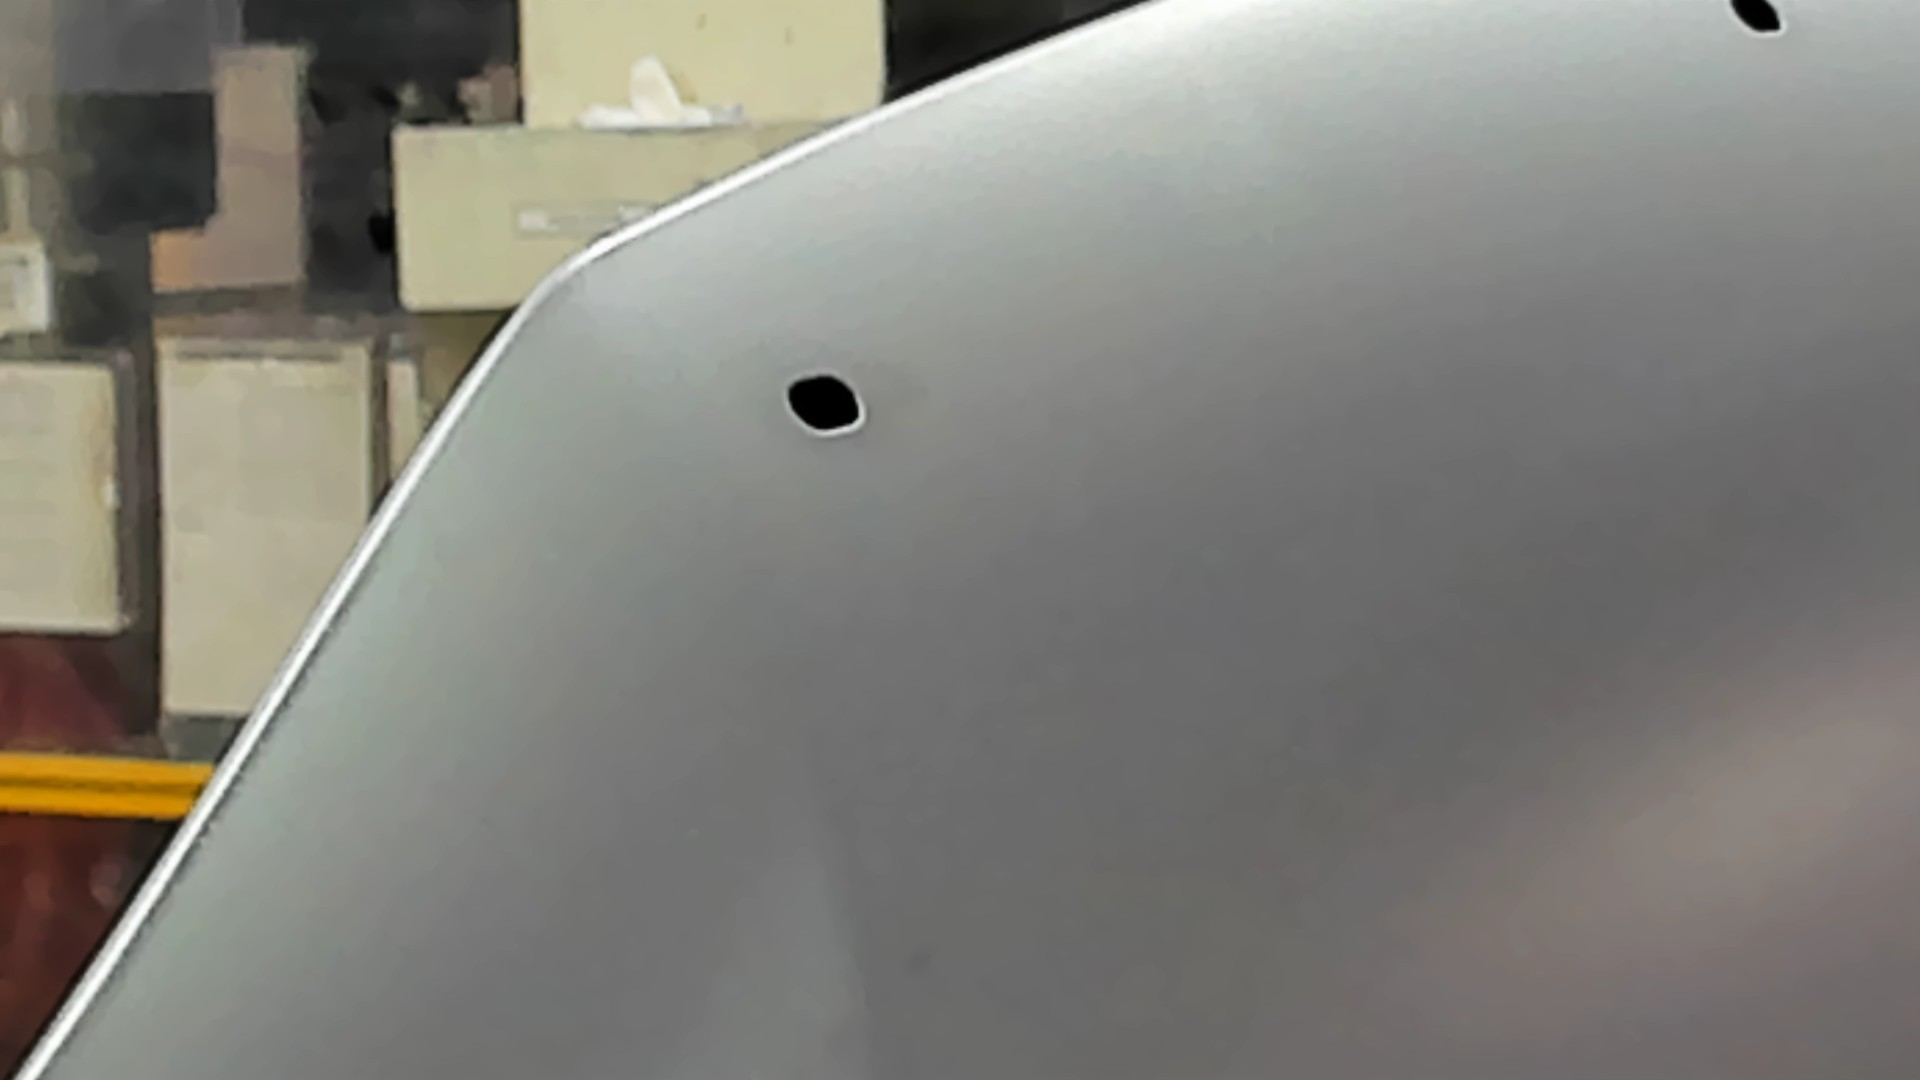amorfo: (778, 371, 873, 444), (1724, 1, 1789, 40)
capo: (971, 109, 1920, 1080)
